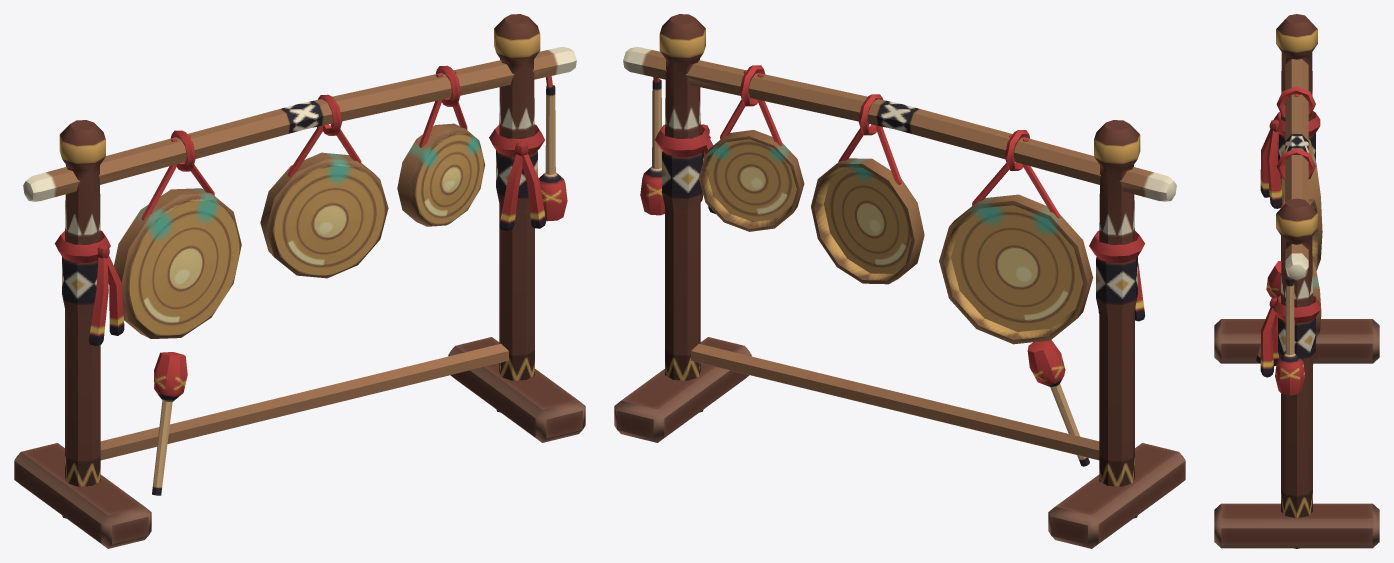
File: gong_rack.glb
3 renders of one model, left to right at view 1: azimuth 30°, elevation 25°; view 2: azimuth 150°, elevation 25°; view 3: azimuth 270°, elevation 25°, orthographic. The views are drawn at different scales.
Parts seen in each view (by area): view 1: gong_rack; view 2: gong_rack; view 3: gong_rack.
Boxes of the visible parts, x1=… form: gong_rack: x1=14, y1=14, x2=585, y2=548; gong_rack: x1=614, y1=14, x2=1185, y2=548; gong_rack: x1=1214, y1=14, x2=1379, y2=548.
Bounding box in the file's own units: 2.78 × 1.86 × 0.828.
1 material, 1 textured.
